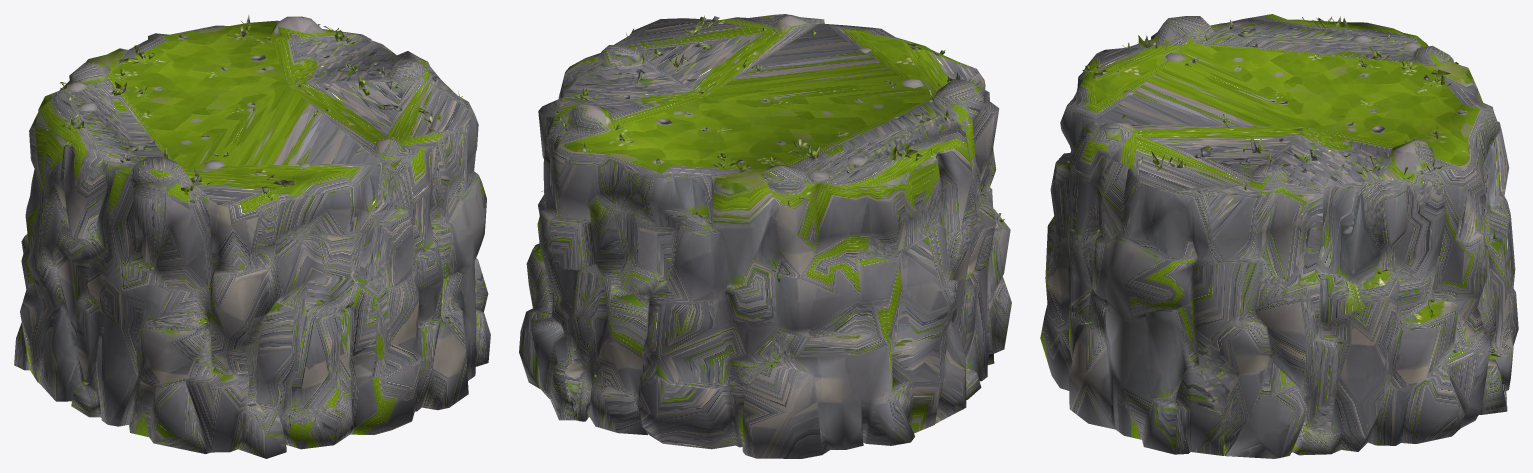
Rendered from rock_plateau.glb.
The picture shows the model from 3 angles, left to right: view 1: azimuth 30°, elevation 25°; view 2: azimuth 150°, elevation 25°; view 3: azimuth 270°, elevation 25°; orthographic projection. The views are drawn at different scales.
Bounding box in the file's own units: 0.9463 × 0.612 × 0.957.
Materials: 1 (1 with a texture image).
